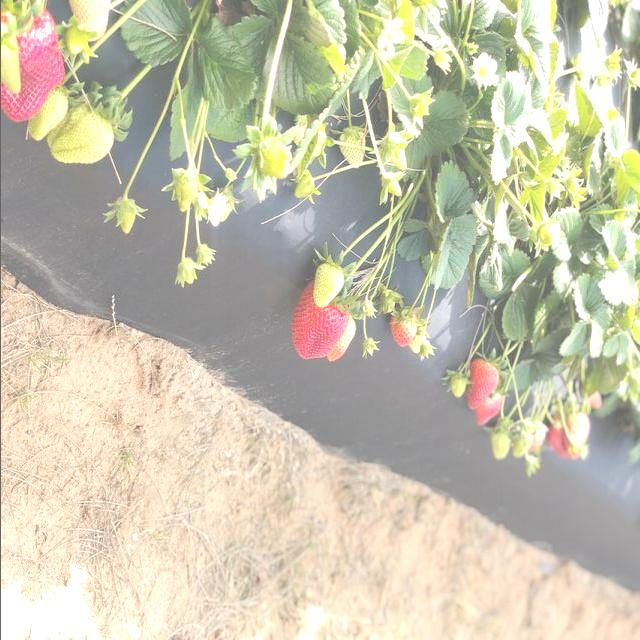ripe: (1, 2, 62, 130), (280, 280, 354, 379), (464, 352, 502, 410), (544, 412, 570, 463), (472, 388, 502, 431), (389, 309, 418, 346)
unripe: (45, 108, 117, 168), (24, 82, 70, 146), (306, 258, 346, 315), (70, 0, 112, 49), (254, 137, 294, 185), (0, 19, 24, 98), (110, 196, 144, 250), (336, 125, 368, 173), (169, 168, 199, 215), (59, 20, 91, 60), (212, 186, 236, 226), (511, 418, 533, 460), (445, 364, 466, 406), (490, 426, 511, 466), (292, 168, 316, 203)
